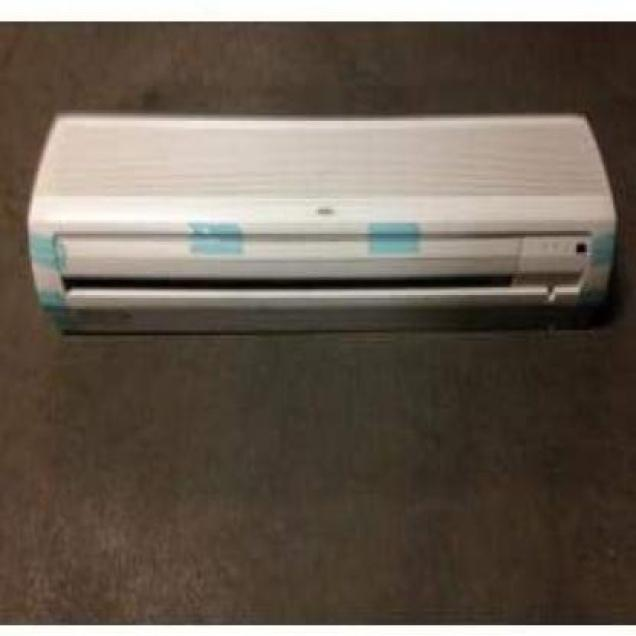AC: (26, 109, 617, 333)
